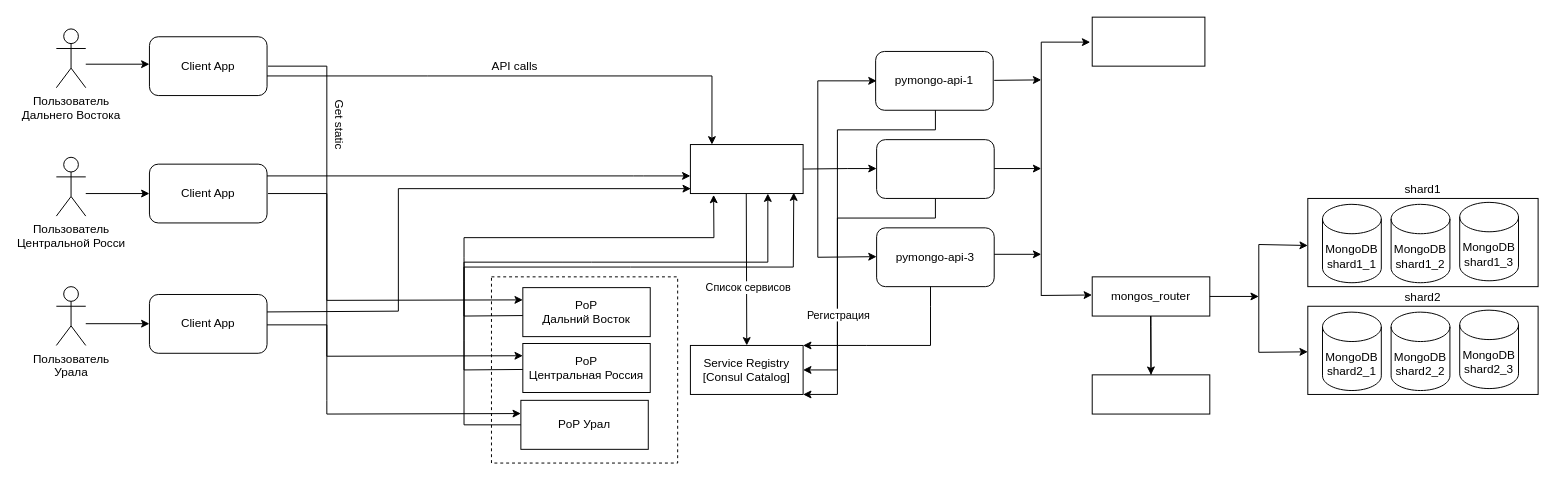
Some shapes in this 1555 by 501 pixel diagram are drawn without their labels. The shapes that lost their labels are listed below. From the top down, each one's box as (x1, y1, x2, y2) in pixels, then its label:
(1091, 16, 1205, 66): Redis cache
(689, 144, 803, 194): API Gateway [APISIX]
(876, 139, 994, 198): pymongo-api-2
(490, 276, 678, 463): CDN
(1091, 374, 1210, 414): configSrv
